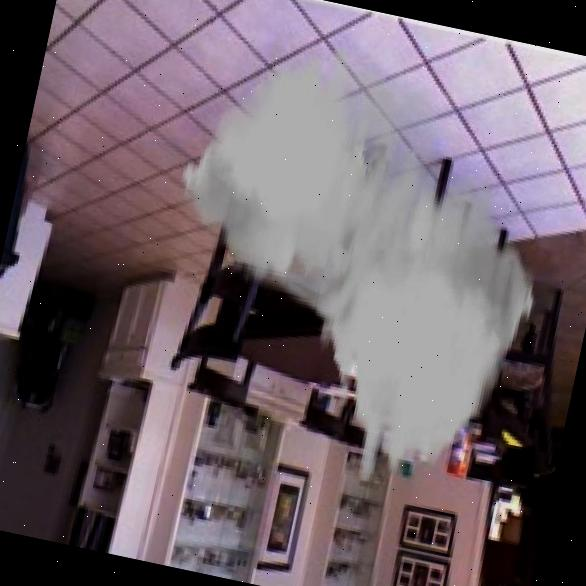smoke: (125, 18, 578, 507)
